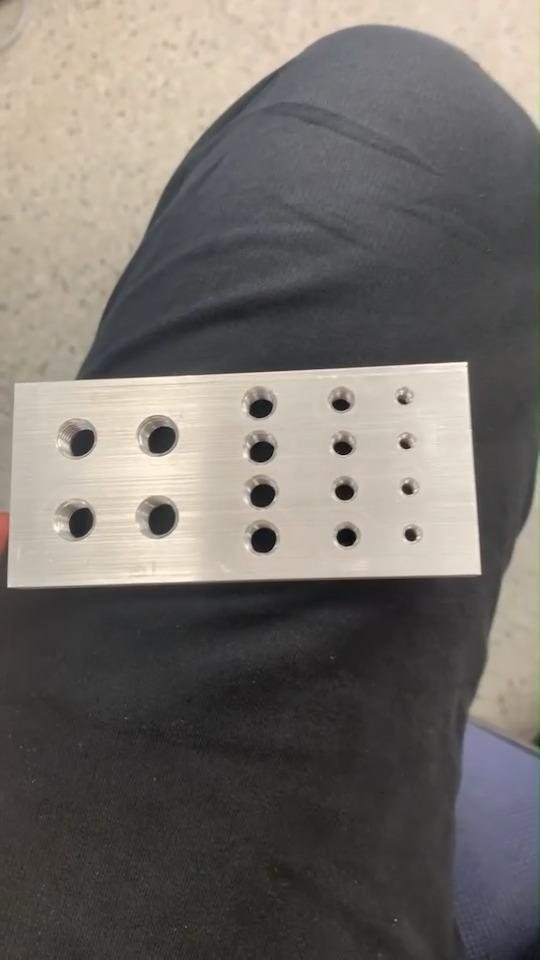hole: (133, 494, 179, 540), (53, 418, 97, 462), (52, 497, 95, 542), (136, 415, 179, 456), (243, 517, 282, 559), (240, 473, 280, 510), (239, 430, 280, 466), (237, 386, 277, 421), (322, 384, 358, 417), (330, 520, 361, 550), (327, 475, 359, 504), (327, 427, 357, 457), (400, 523, 425, 548), (392, 384, 415, 407), (398, 475, 420, 499), (394, 432, 416, 454)
